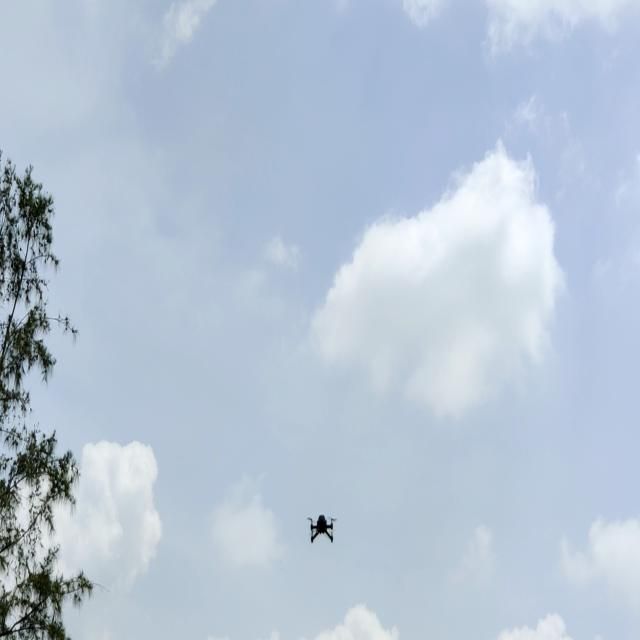drone: (304, 508, 338, 543)
